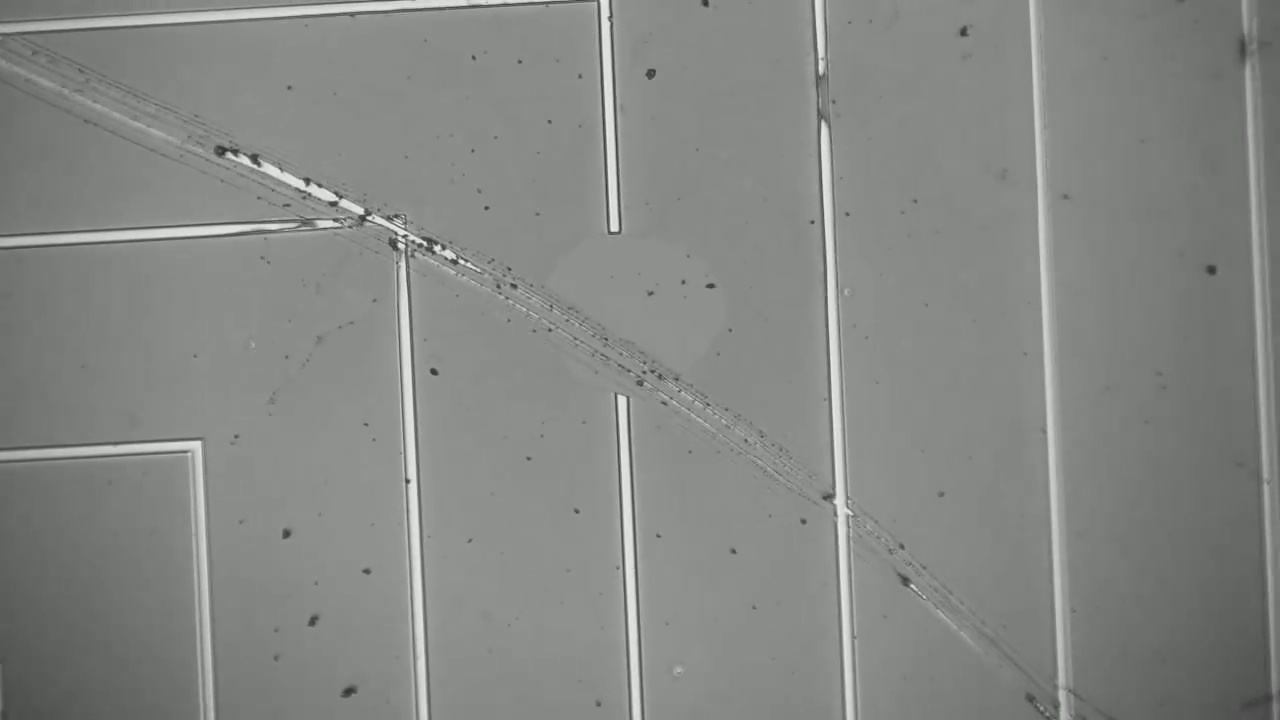gray_line: (801, 49, 843, 146), (1228, 15, 1272, 75)
open: (596, 216, 641, 417)
scratch: (406, 235, 1059, 705), (0, 33, 398, 237)
